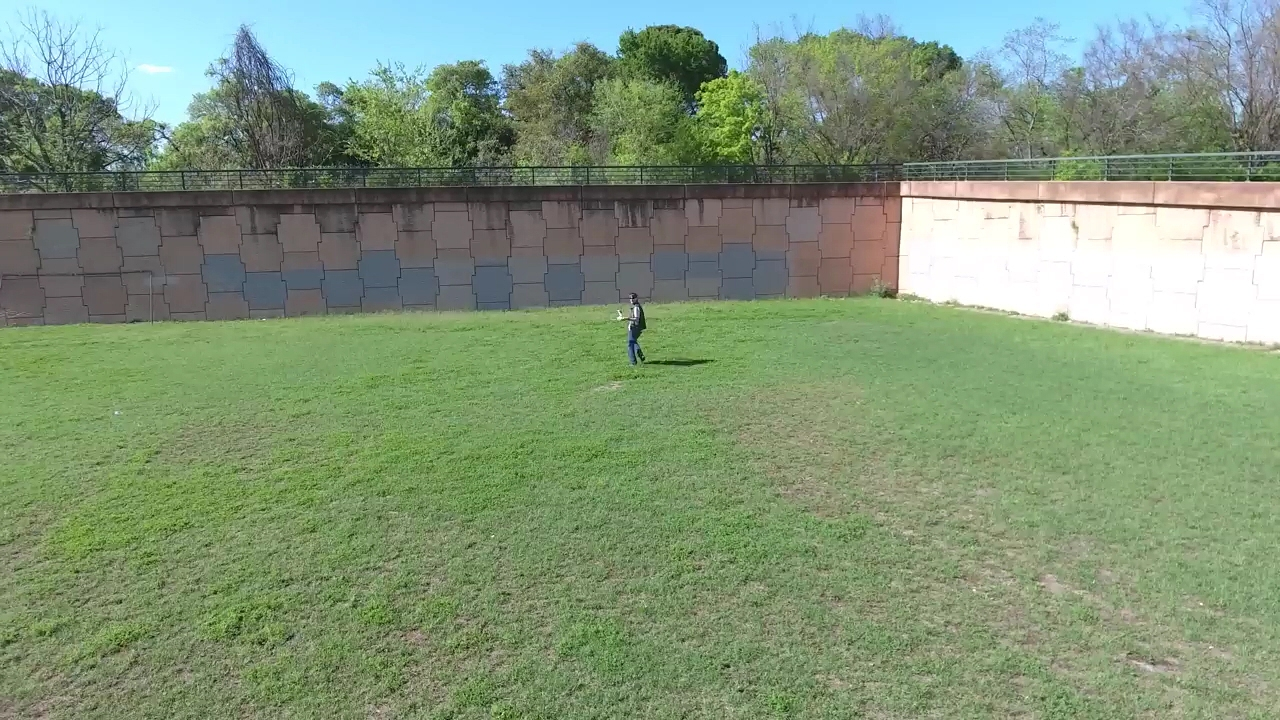insan: (628, 293, 650, 367)
